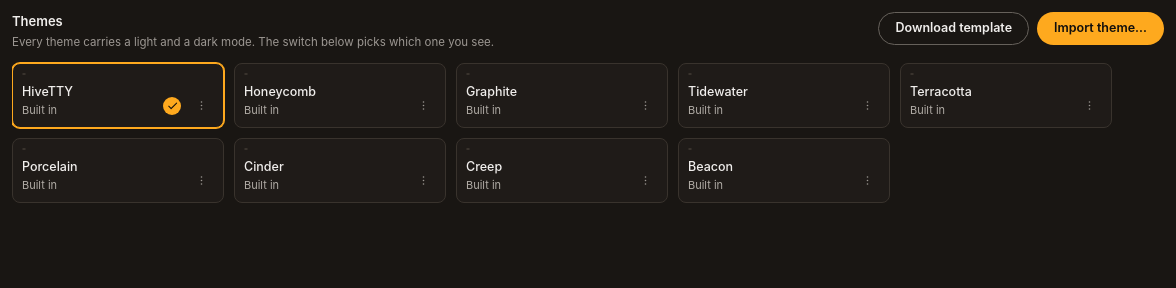
Test case: ThemeGallery › imports a picked file and activates it
What coordinates should you click on to do the following:
click the button "Import theme…"
I would click on:
 (1100, 28)
Its box is [1037, 12, 1164, 45].
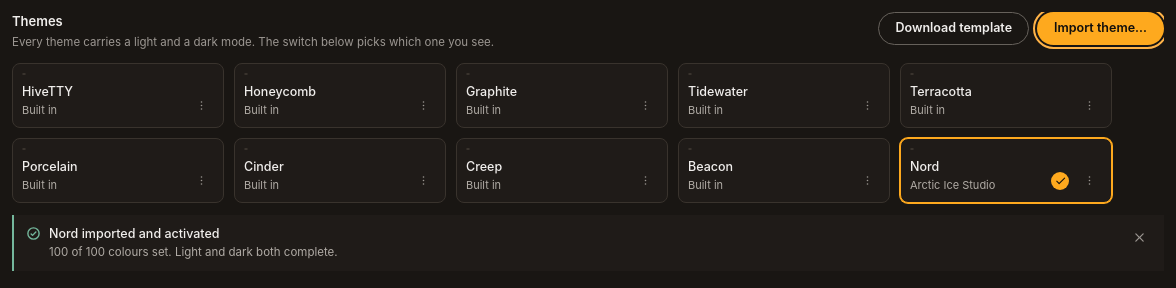
Now the text "Nord imported and activated" is shown, box [49, 226, 220, 241]
